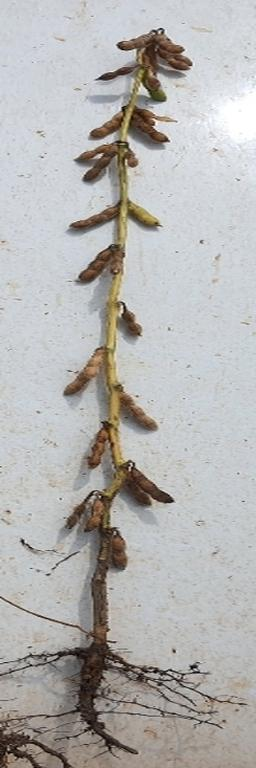pod: (61, 345, 105, 397), (67, 196, 119, 230), (78, 246, 115, 284), (122, 394, 156, 428), (88, 110, 125, 140), (86, 423, 107, 472), (128, 198, 163, 227), (92, 63, 133, 82), (62, 503, 90, 529), (84, 500, 103, 534), (121, 308, 143, 337), (113, 537, 129, 571), (125, 148, 141, 168)
soy: (24, 26, 210, 751)
